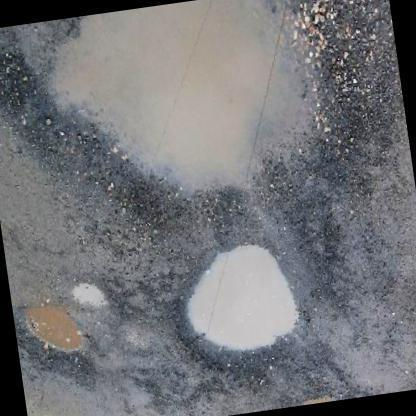pothole: (0, 0, 370, 217), (176, 237, 336, 384), (13, 267, 124, 380)
